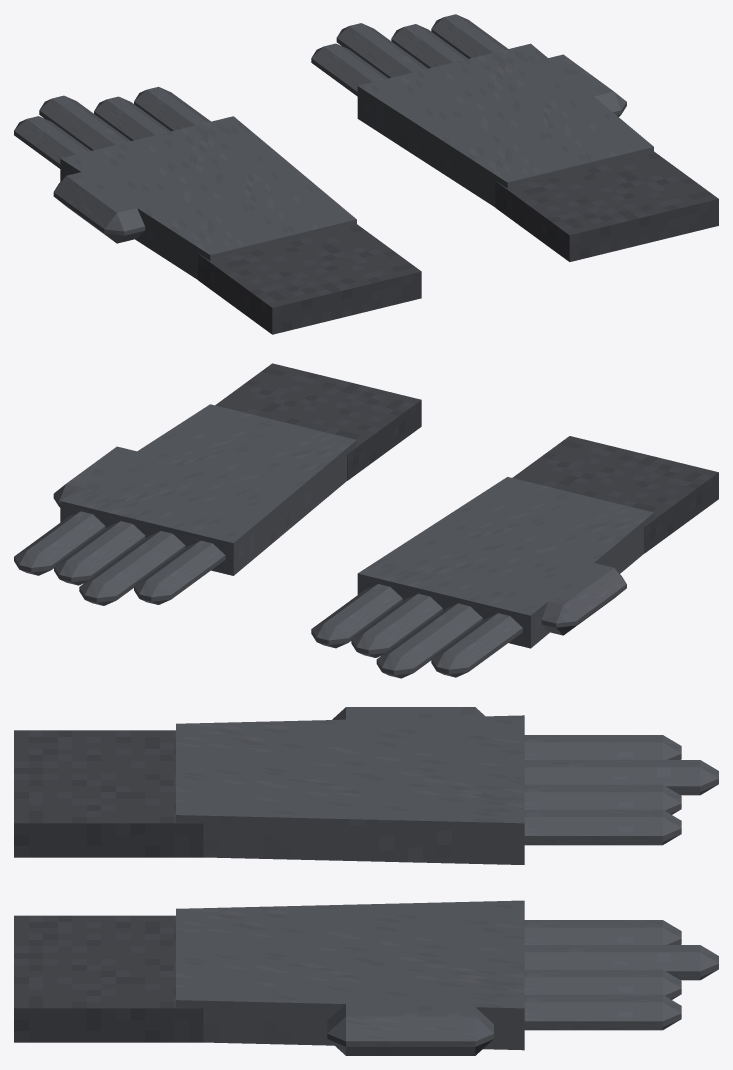
File: wetsuit_gloves.glb
3 renders of one model, top to bottom at view 1: azimuth 30°, elevation 25°; view 2: azimuth 150°, elevation 25°; view 3: azimuth 270°, elevation 25°, orthographic. The views are drawn at different scales.
Parts seen in each view (by area): view 1: block_glove palm (×2), block_cuff (×2), block_finger (×8), block_thumb (×2); view 2: block_glove palm (×2), block_finger (×8), block_cuff (×2), block_thumb (×2); view 3: block_glove palm (×2), block_cuff (×2), block_finger (×8), block_thumb (×2).
Boxes of the visible parts, x1,y1,x2,y2 form: block_glove palm (×2): (60, 43, 653, 279); block_cuff (×2): (198, 151, 718, 334); block_finger (×8): (14, 14, 507, 168); block_thumb (×2): (53, 54, 626, 243); block_glove palm (×2): (60, 404, 653, 648); block_finger (×8): (14, 511, 522, 678); block_cuff (×2): (215, 363, 718, 553); block_thumb (×2): (53, 446, 626, 635); block_glove palm (×2): (176, 715, 524, 1050); block_cuff (×2): (14, 730, 203, 1042); block_finger (×8): (524, 735, 718, 1030); block_thumb (×2): (327, 707, 493, 1055).
Bounding box in the file's own units: 0.246 × 0.0148 × 0.2253.
Materials: 1 (1 with a texture image).
